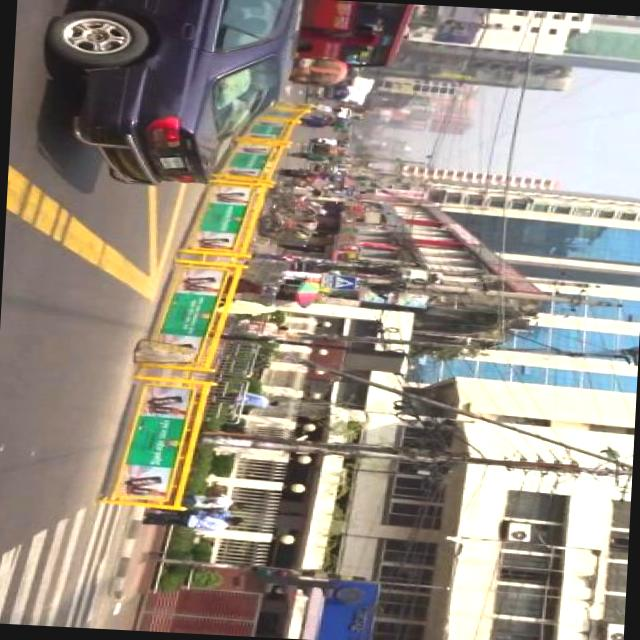bus: (297, 0, 418, 72)
car: (62, 0, 305, 194), (338, 108, 354, 120)
motorcycle: (258, 196, 314, 240), (295, 56, 350, 90), (284, 205, 323, 231), (312, 88, 352, 104), (310, 164, 339, 176), (314, 138, 329, 146)
